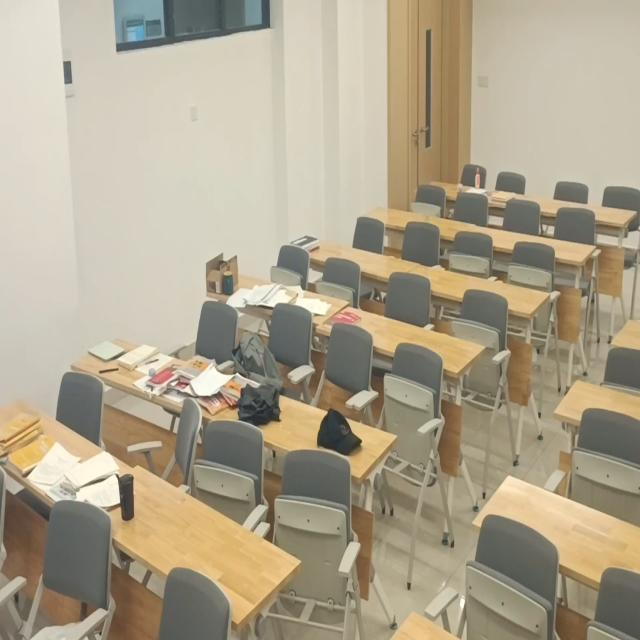Non-empty: (98, 466, 300, 625), (212, 381, 394, 481), (1, 399, 134, 521), (72, 336, 253, 415), (320, 306, 483, 374), (206, 267, 347, 325), (296, 233, 419, 282), (429, 181, 534, 210)
empty: (407, 259, 551, 313), (461, 226, 594, 264), (532, 196, 634, 228), (364, 207, 478, 235)
